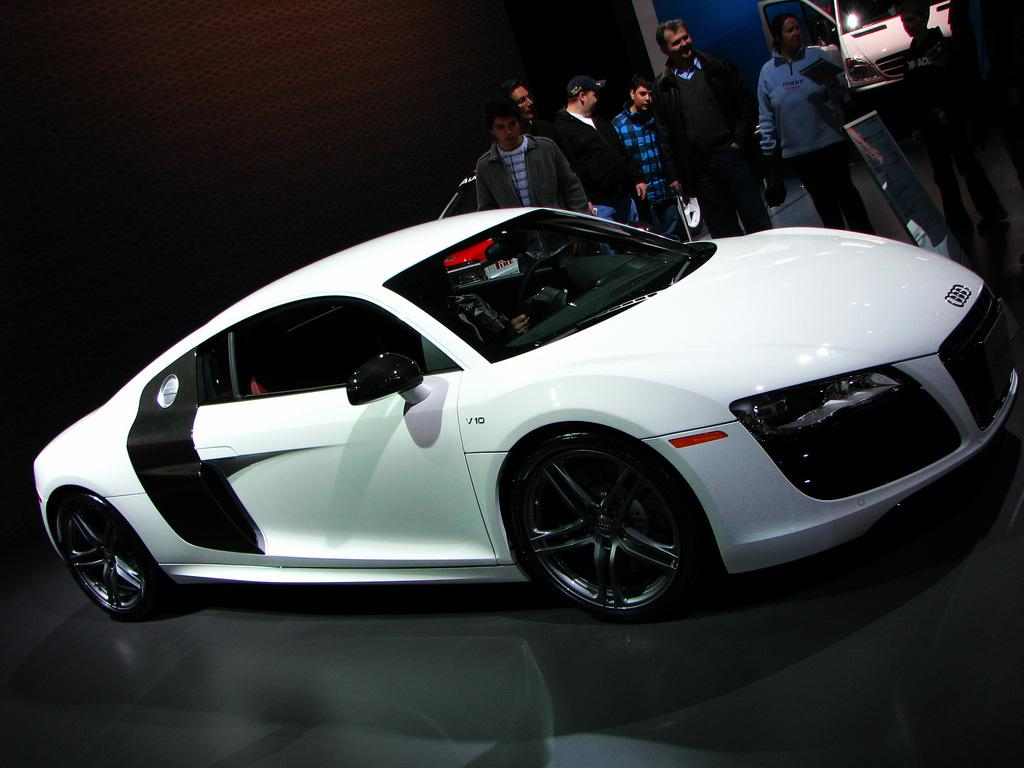small: (32, 202, 1018, 624)
